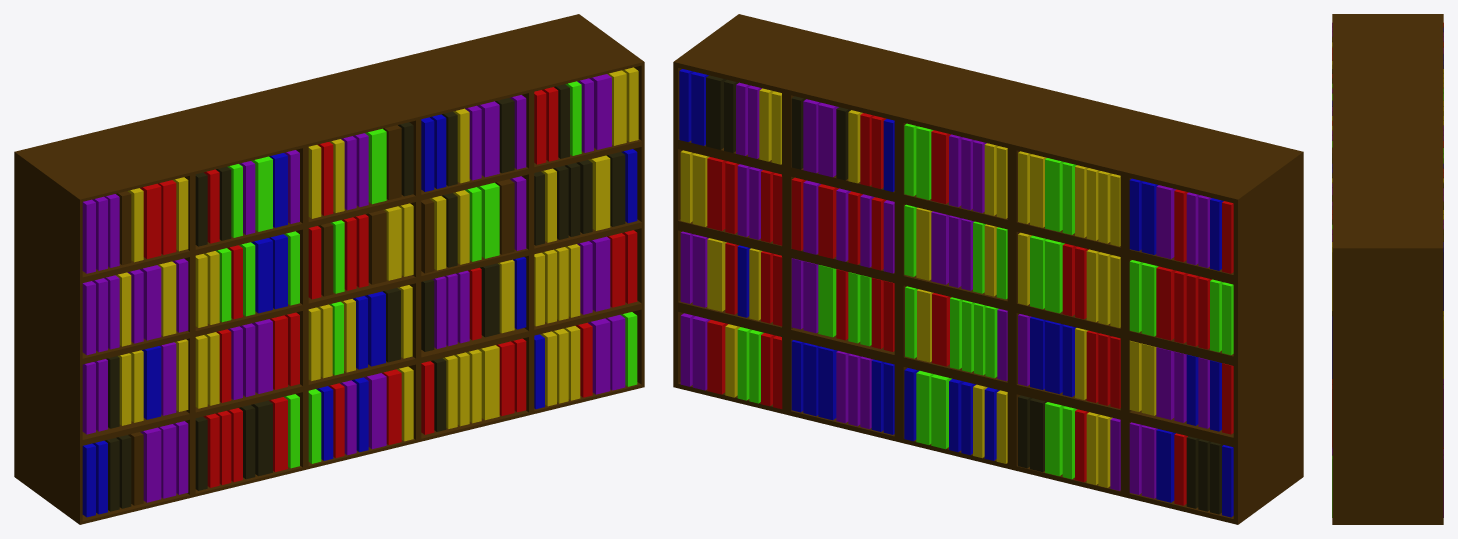
File: bookshelf.fbx
3 views of the same model, side by side, from view 1: azimuth 30°, elevation 25°; view 2: azimuth 150°, elevation 25°; view 3: azimuth 270°, elevation 25° (orthographic). The views are drawn at different scales.
Visible parts, largest first — view 1: shelf, book_5_22, book_5_34, book_5_27, book_5_26, book_5_24, book_5_32, book_5_40, book_5_33, book_5_29, book_5_30, book_5_23 (+149 smaller); view 2: shelf, book_5, book_5_7, book_5_5, book_5_12, book_5_3, book_5_13, book_5_9, book_5_2, book_5_10, book_5_11, book_5_8 (+148 smaller); view 3: shelf.
Boxes of the visible parts, <box> form: shelf: <box>14,14,644,524</box>; book_5_22: <box>588,318,610,394</box>; book_5_34: <box>364,373,386,449</box>; book_5_27: <box>477,182,499,258</box>; book_5_26: <box>477,101,499,177</box>; book_5_24: <box>588,155,610,230</box>; book_5_32: <box>139,265,161,340</box>; book_5_40: <box>365,128,386,204</box>; book_5_33: <box>140,183,161,258</box>; book_5_29: <box>478,345,499,420</box>; book_5_30: <box>140,427,161,502</box>; book_5_23: <box>589,236,610,311</box>; shelf: <box>673,14,1303,524</box>; book_5: <box>707,320,728,394</box>; book_5_7: <box>818,184,838,258</box>; book_5_5: <box>818,103,838,177</box>; book_5_12: <box>1156,266,1176,340</box>; book_5_3: <box>707,157,727,230</box>; book_5_13: <box>1156,185,1176,258</box>; book_5_9: <box>818,346,837,420</box>; book_5_2: <box>707,238,726,311</box>; book_5_10: <box>1156,429,1175,502</box>; book_5_11: <box>1156,347,1174,419</box>; book_5_8: <box>818,265,836,337</box>; shelf: <box>1332,14,1443,524</box>.
Size of the model in its own units: 562 by 310 by 113.
